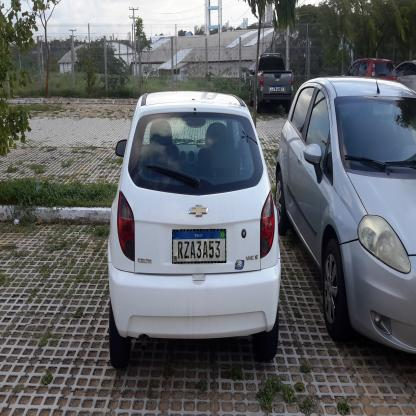PlacaM: (172, 229, 226, 264), (270, 86, 284, 91)
